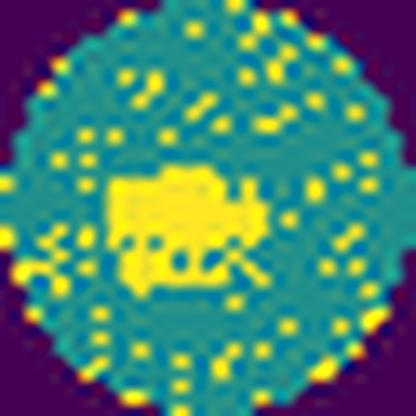Center: (109, 170, 267, 288)
